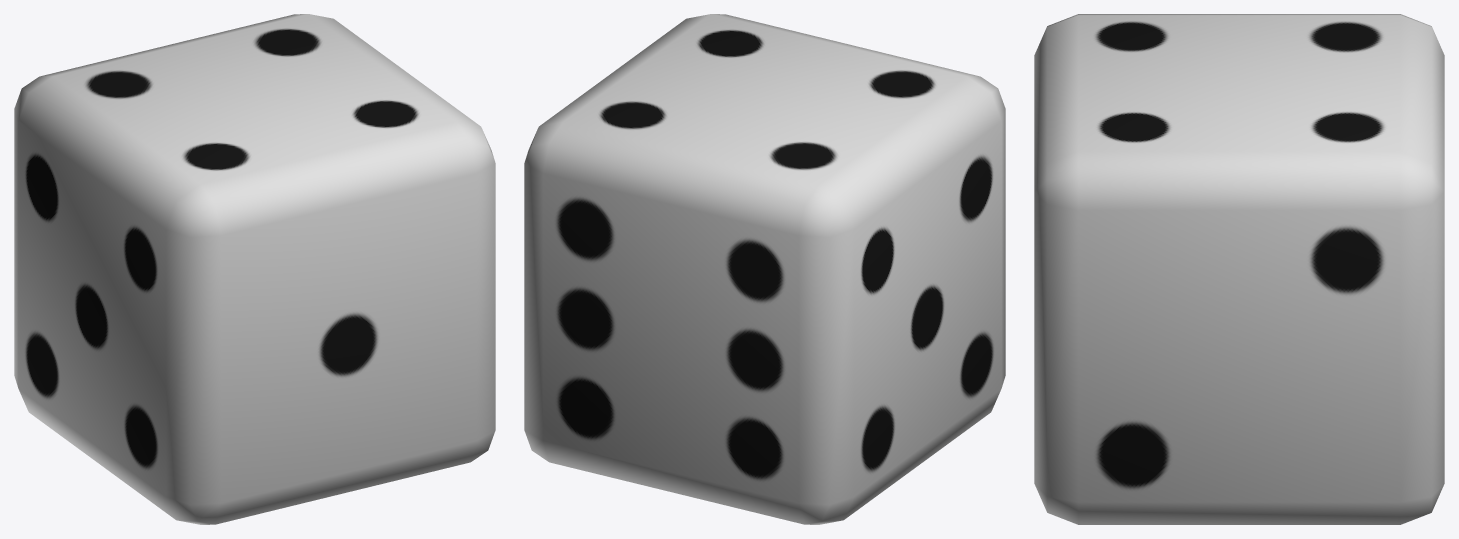
File: dice.glb
3 views of the same model, side by side, from view 1: azimuth 30°, elevation 25°; view 2: azimuth 150°, elevation 25°; view 3: azimuth 270°, elevation 25° (orthographic). The views are drawn at different scales.
Visible parts, largest first — view 1: Object_2; view 2: Object_2; view 3: Object_2.
Part boxes in pixels (<box>): Object_2: <box>14,14,495,524</box>; Object_2: <box>524,14,1005,524</box>; Object_2: <box>1034,14,1444,524</box>.
Bounding box in the file's own units: 20 × 20 × 20.
Materials: 1 (1 with a texture image).
